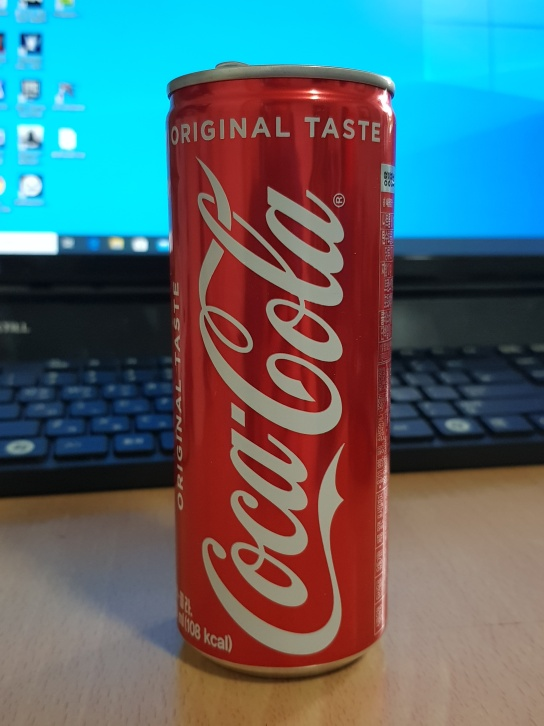Can: (159, 52, 397, 679)
